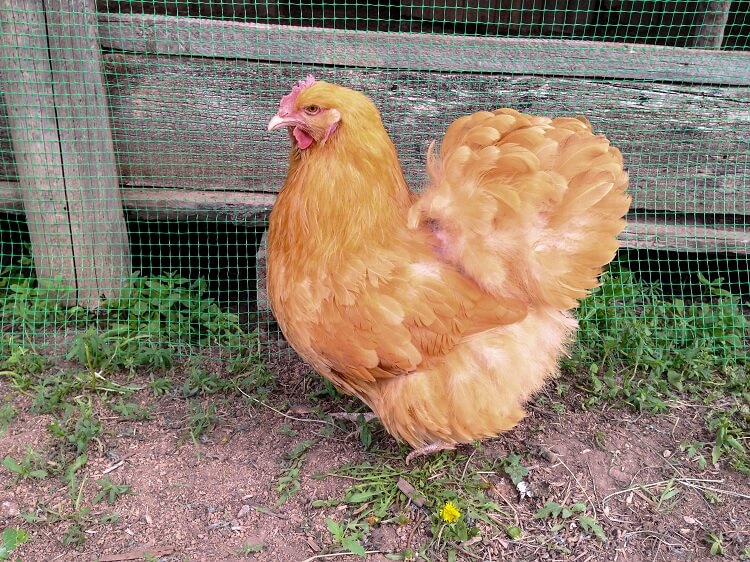buff: (229, 82, 626, 466)
